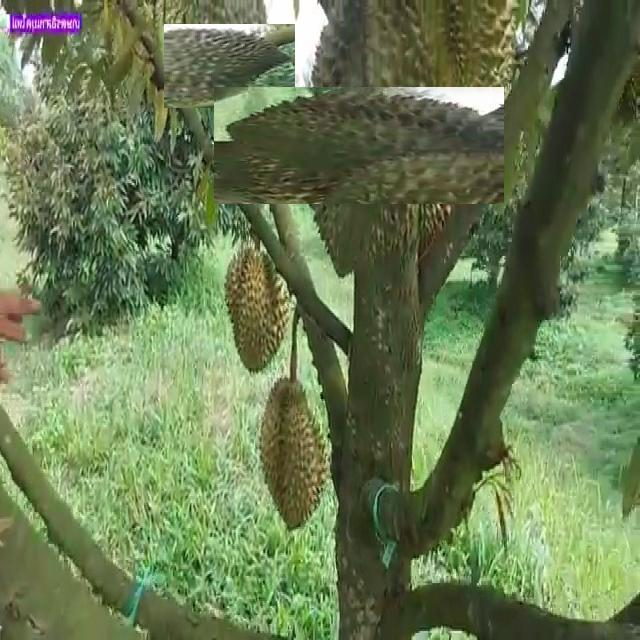durian: (257, 43, 461, 247), (360, 0, 524, 193), (256, 370, 330, 540), (176, 12, 284, 120), (222, 242, 292, 378)
